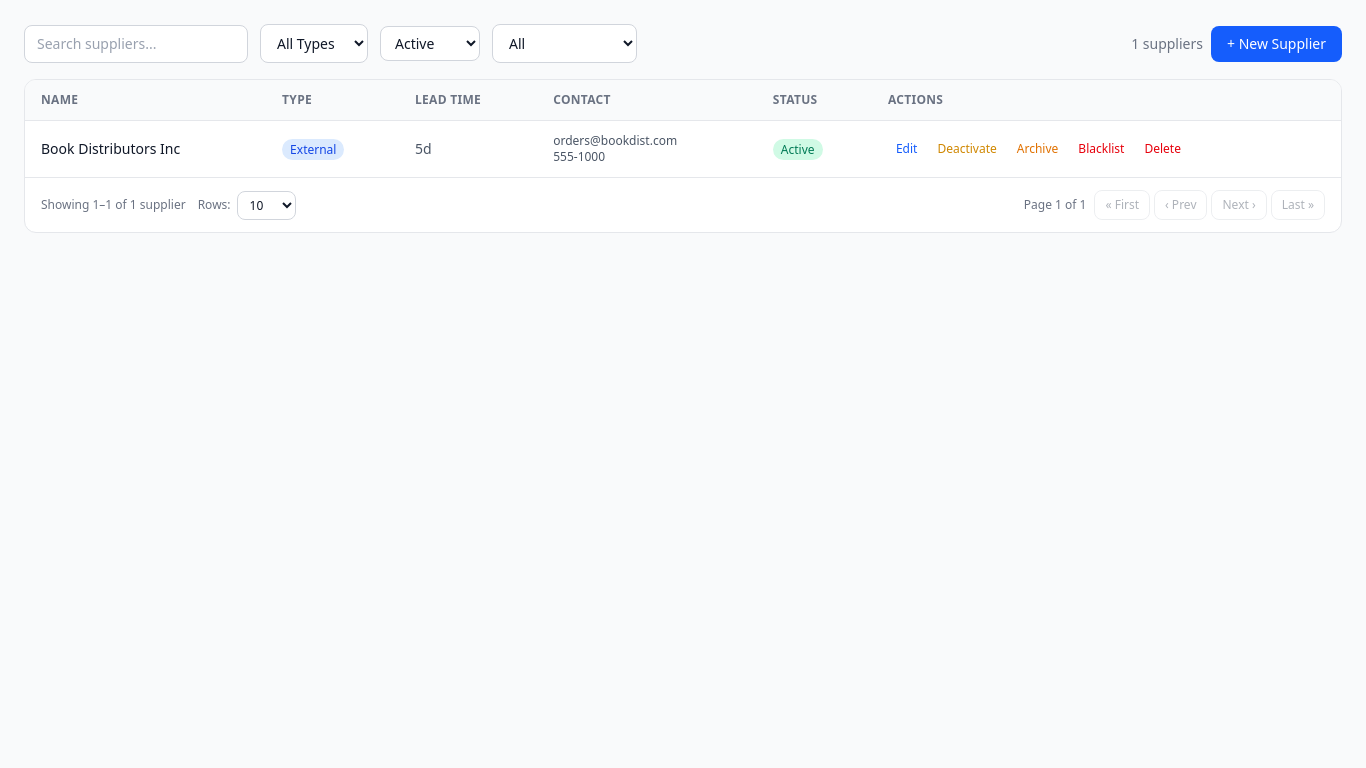
it: Suppliers › creates a supplier with a body the API contract accepts, then reloads the list
Expected: the text "Book Distributors Inc" is shown, [25, 120, 266, 177]
Step 1. Click the button "+ New Supplier" → (1276, 44), box [1211, 26, 1342, 62]
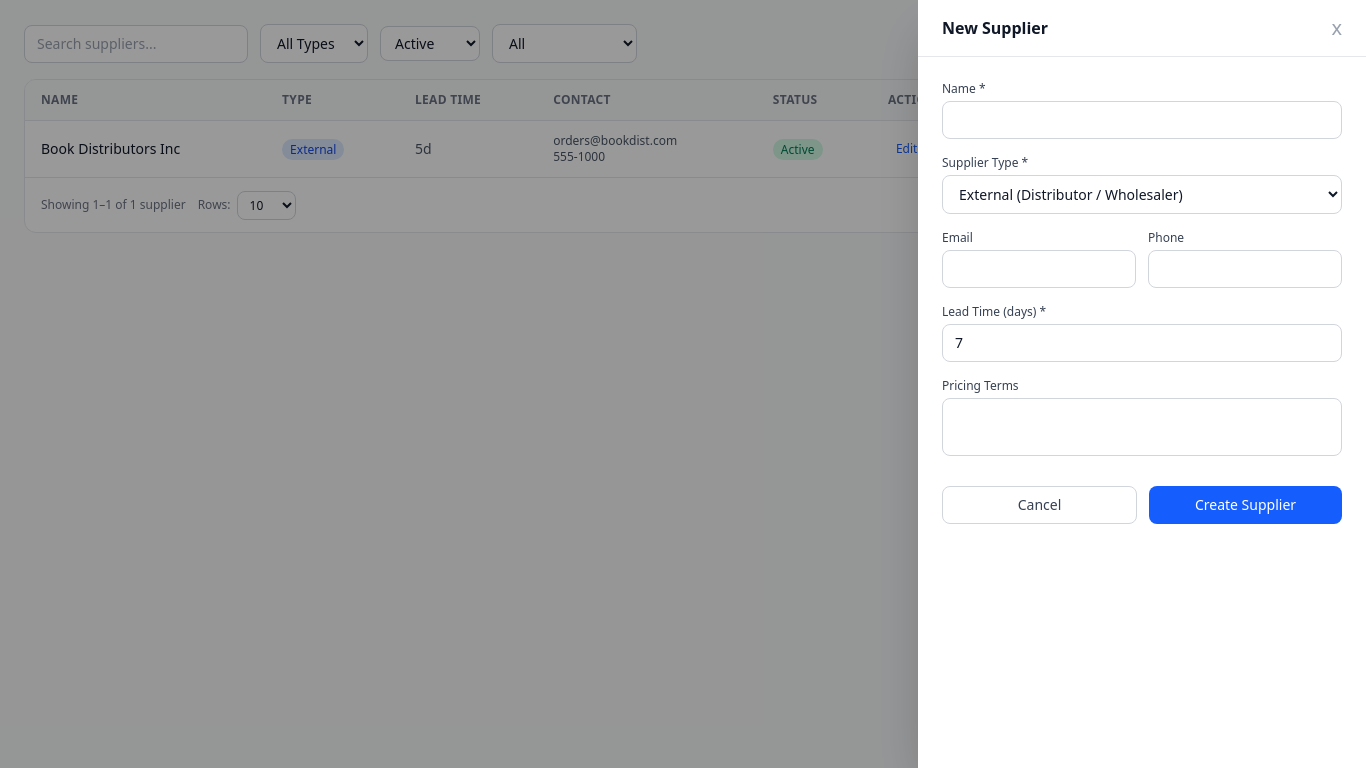
Step 2. Type "Addis Books" into the field labelled "Name *" → (1142, 120), box [942, 101, 1342, 139]
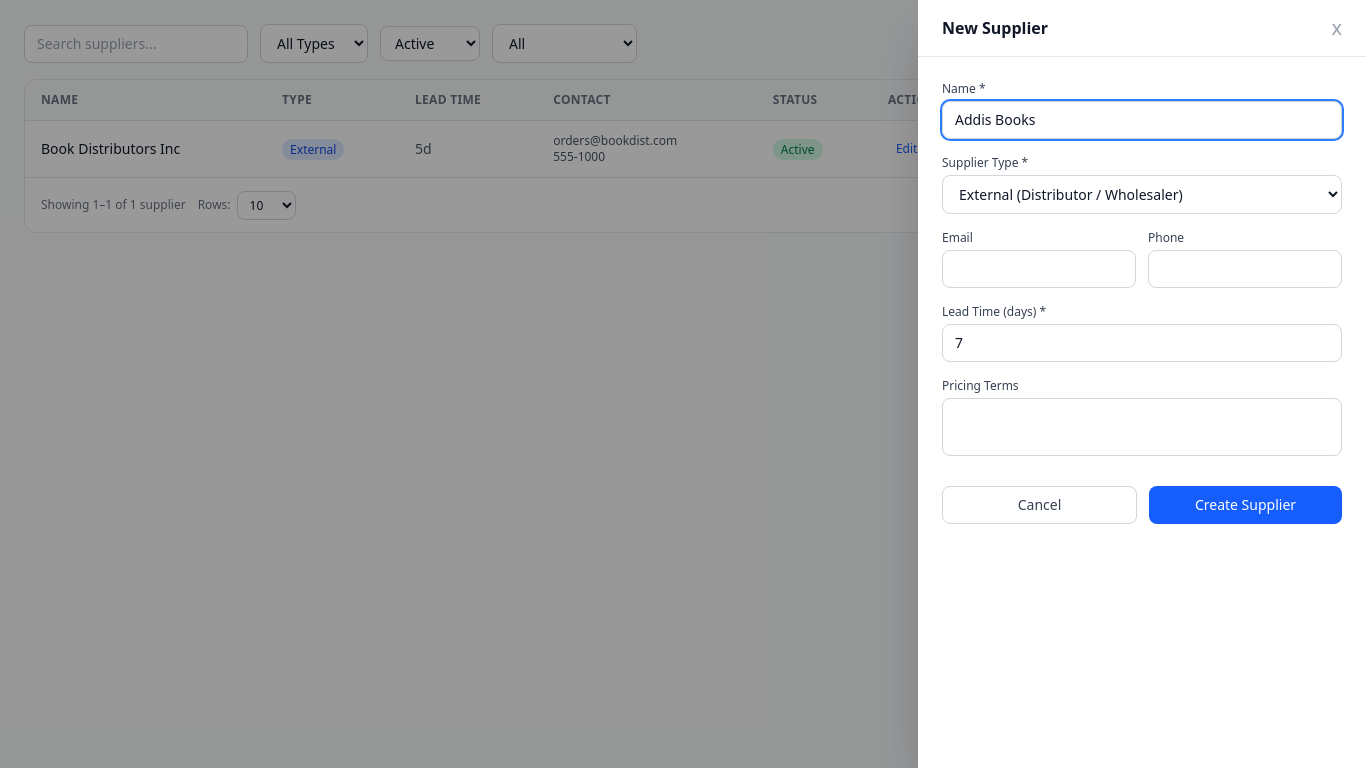
Step 3. Type "sales@addis.example" into the field labelled "Email" → (1039, 269), box [942, 250, 1136, 288]
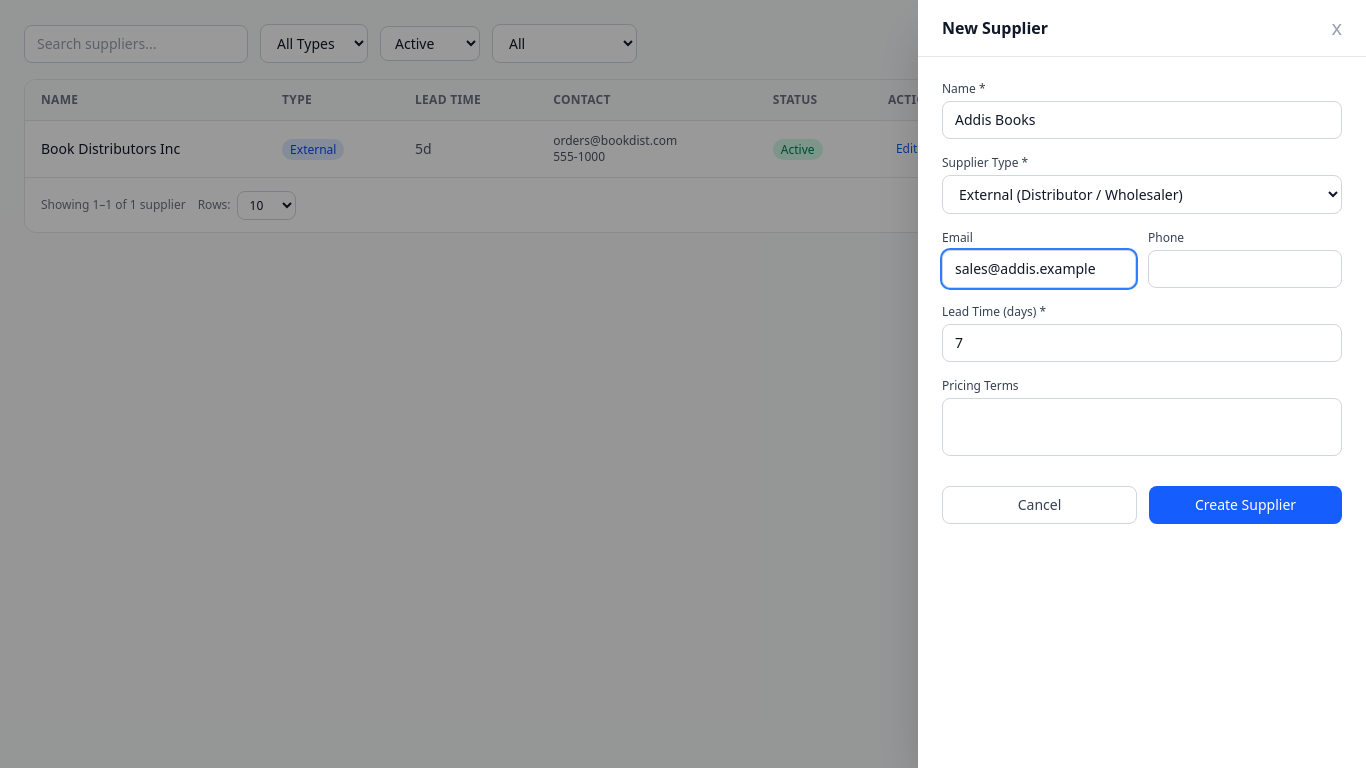
Step 4. Replace the text in the number field labelled "Lead Time (days) *" with "3" → (1142, 343), box [942, 324, 1342, 362]
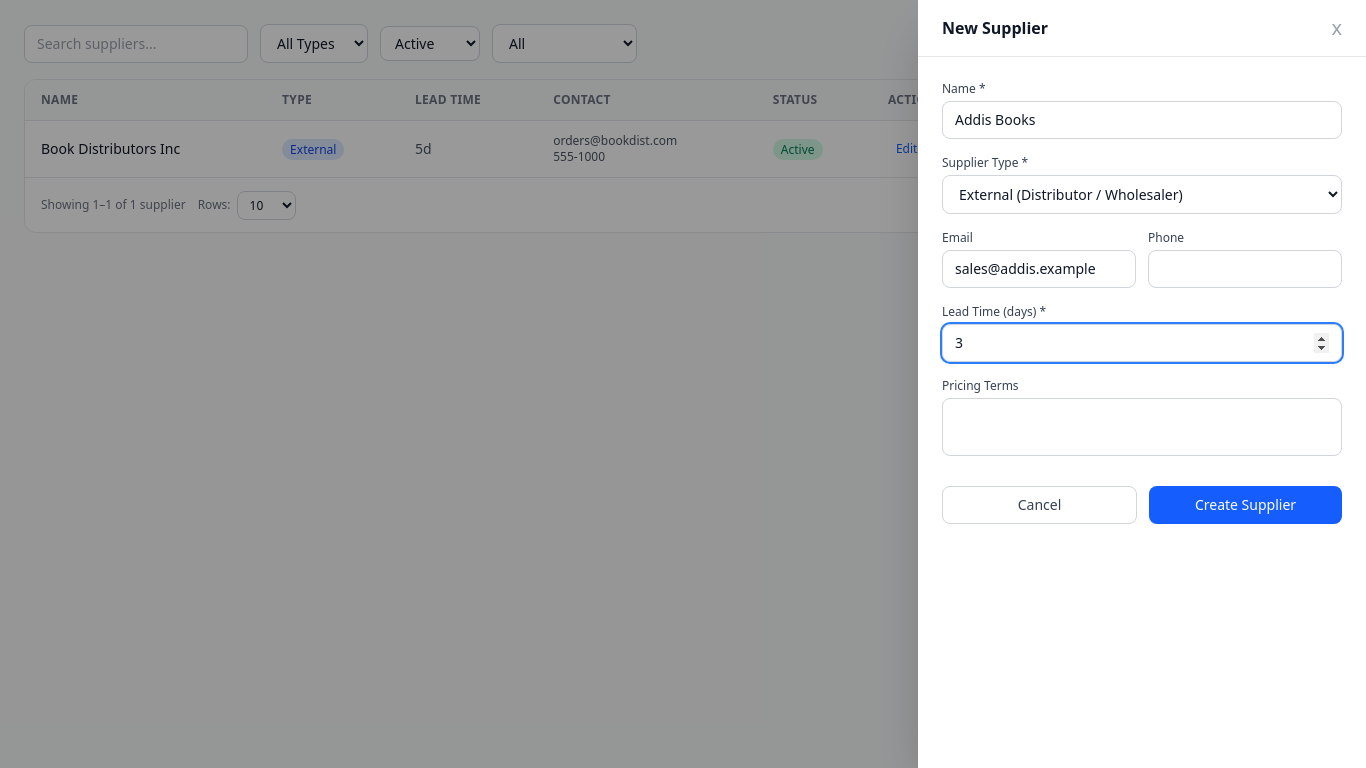
Step 5. Click the button "Create Supplier" → (1246, 505), box [1149, 486, 1342, 524]
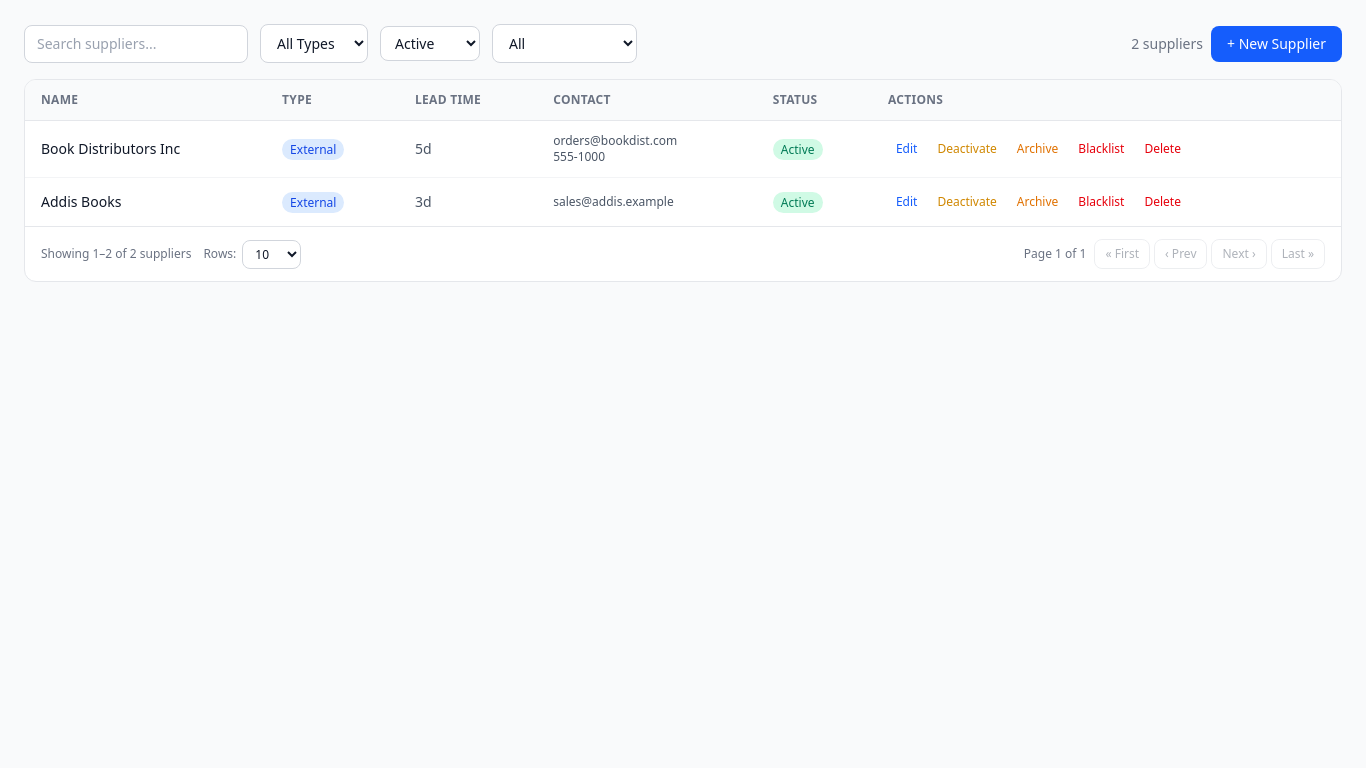
Now the text "Addis Books" is shown, box [25, 178, 266, 226]
